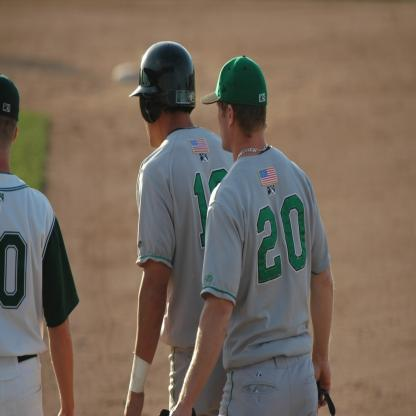Helmet: (131, 41, 199, 131)
